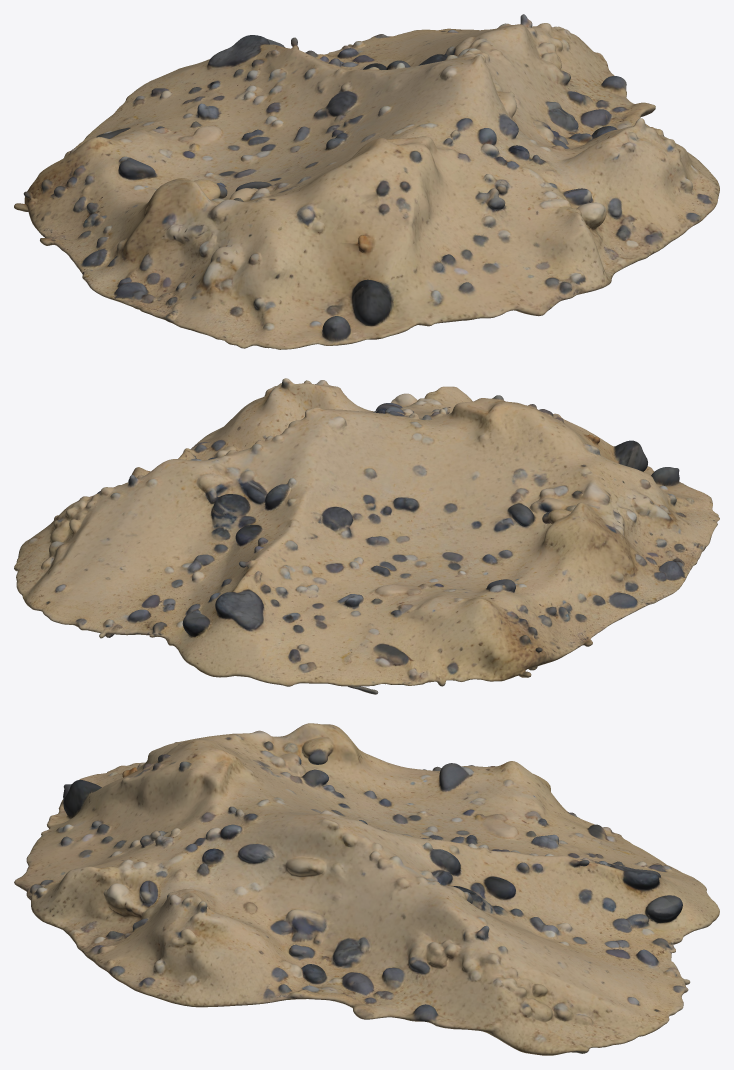
Rendered from nature-sand-patch.glb.
The picture shows the model from 3 angles, top to bottom: view 1: azimuth 30°, elevation 25°; view 2: azimuth 150°, elevation 25°; view 3: azimuth 270°, elevation 25°; orthographic projection. The views are drawn at different scales.
Parts seen in each view (by area): view 1: tripo_node_72ad3b1b-6bfb-4feb-8bc0-33a7b744e91b; view 2: tripo_node_72ad3b1b-6bfb-4feb-8bc0-33a7b744e91b; view 3: tripo_node_72ad3b1b-6bfb-4feb-8bc0-33a7b744e91b.
Boxes of the visible parts, x1=… form: tripo_node_72ad3b1b-6bfb-4feb-8bc0-33a7b744e91b: x1=14, y1=14, x2=719, y2=349; tripo_node_72ad3b1b-6bfb-4feb-8bc0-33a7b744e91b: x1=14, y1=378, x2=719, y2=694; tripo_node_72ad3b1b-6bfb-4feb-8bc0-33a7b744e91b: x1=14, y1=723, x2=719, y2=1055.
Bounding box in the file's own units: 0.2124 × 0.05 × 0.2156.
Materials: 1 (1 with a texture image).
